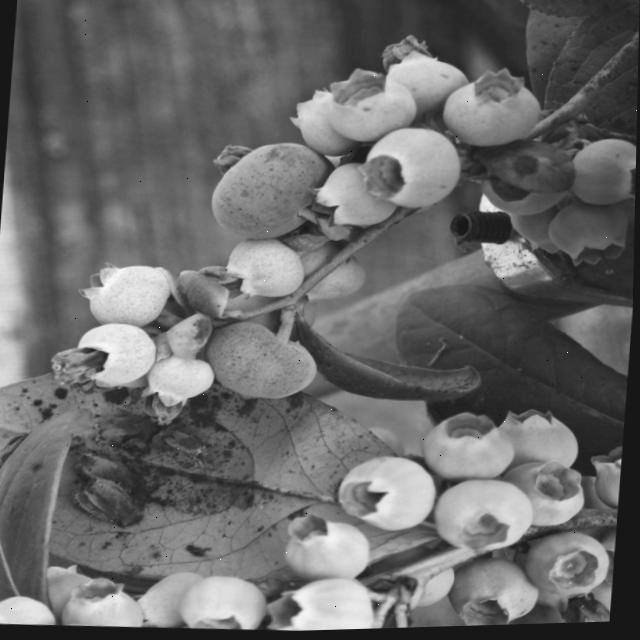RipeBlueBerry: (204, 141, 337, 248)
Semi-RipeBlueBerry: (205, 316, 318, 408)
UnripeBlueBerry: (430, 475, 543, 561), (357, 126, 465, 215)
